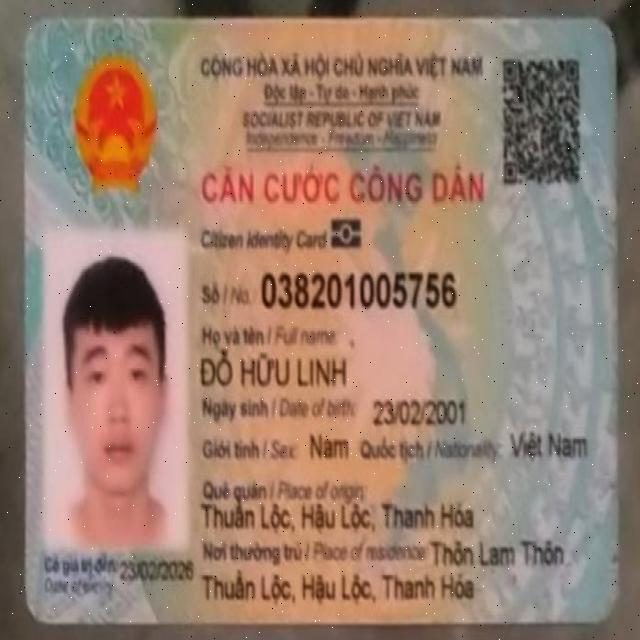current_place: (202, 565, 476, 610)
dob: (370, 398, 473, 428)
expire_date: (119, 554, 196, 588)
gender: (308, 426, 352, 467)
id: (261, 273, 461, 312)
name: (197, 343, 353, 395)
nationality: (509, 425, 588, 467)
origin_place: (201, 500, 479, 534)
